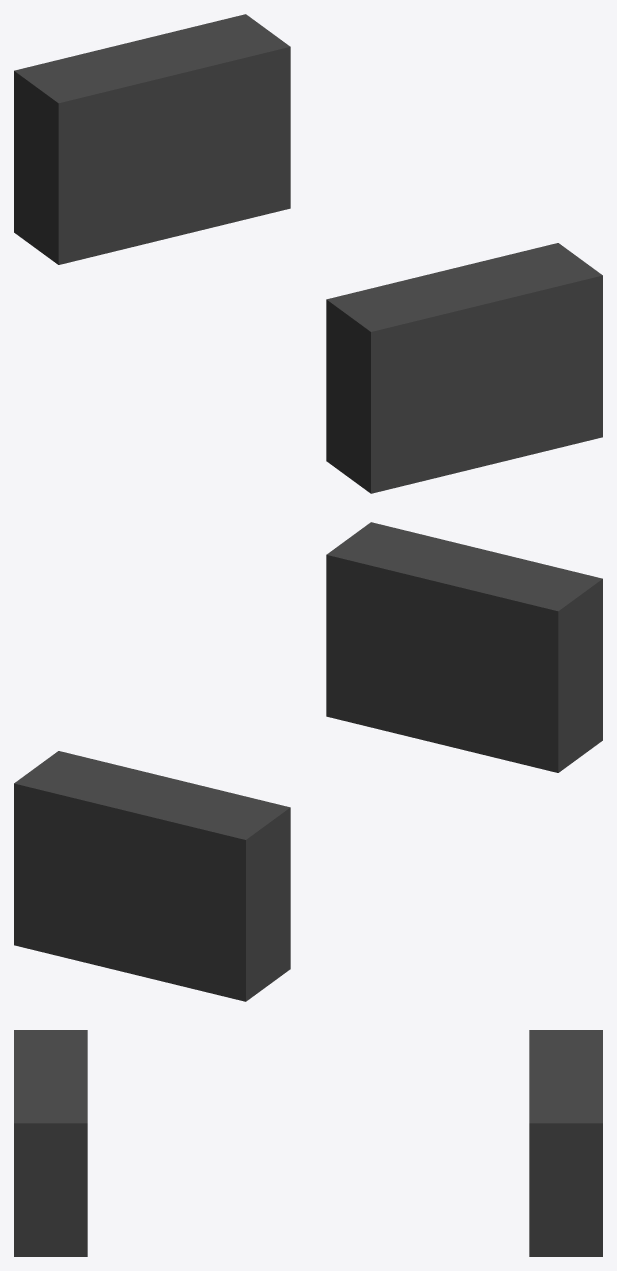
Rendered from Turtle Glasses.obj.
3 views of the same model, one above another, from view 1: azimuth 30°, elevation 25°; view 2: azimuth 150°, elevation 25°; view 3: azimuth 270°, elevation 25° (orthographic). The views are drawn at different scales.
Size of the model in its own units: 0.3 by 0.2 by 0.8.
1 material, 1 textured.
